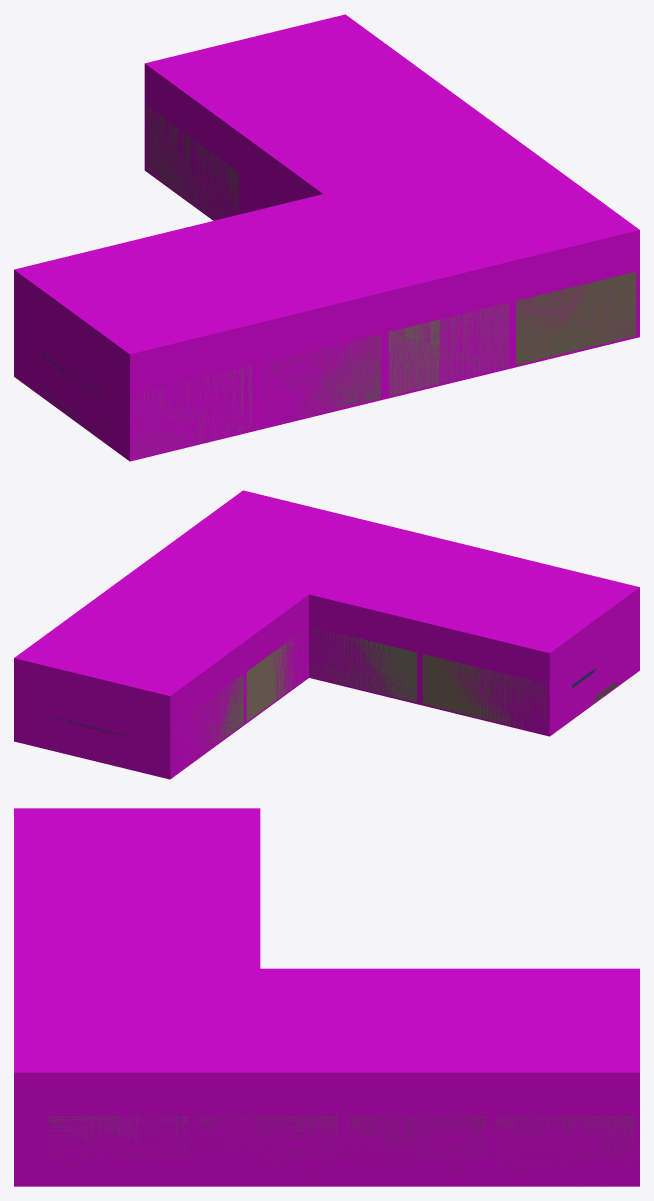
File: ENV_Channel_Corner_A.glb
The picture shows the model from 3 angles, top to bottom: view 1: azimuth 30°, elevation 25°; view 2: azimuth 150°, elevation 25°; view 3: azimuth 270°, elevation 25°; orthographic projection. The views are drawn at different scales.
Parts seen in each view (by area): view 1: COL_Arm_-1_0, COL_Arm_0_1, COL_Core, ENV_Channel_Corner_A_Mesh; view 2: COL_Arm_0_1, COL_Arm_-1_0, ENV_Channel_Corner_A_Mesh, COL_Core; view 3: COL_Arm_0_1, COL_Arm_-1_0, COL_Core, ENV_Channel_Corner_A_Mesh.
Boxes of the visible parts, bbox=[...] form: COL_Arm_-1_0: bbox=[14, 169, 539, 461]; COL_Arm_0_1: bbox=[144, 14, 581, 236]; COL_Core: bbox=[346, 145, 639, 385]; ENV_Channel_Corner_A_Mesh: bbox=[44, 106, 636, 457]; COL_Arm_0_1: bbox=[14, 524, 353, 779]; COL_Arm_-1_0: bbox=[247, 509, 639, 736]; ENV_Channel_Corner_A_Mesh: bbox=[54, 627, 616, 766]; COL_Core: bbox=[153, 490, 395, 585]; COL_Arm_0_1: bbox=[137, 968, 639, 1186]; COL_Arm_-1_0: bbox=[14, 808, 260, 1020]; COL_Core: bbox=[14, 969, 260, 1186]; ENV_Channel_Corner_A_Mesh: bbox=[48, 1116, 634, 1173].
Size of the model in its own units: 2.49 by 0.5305 by 2.49.
